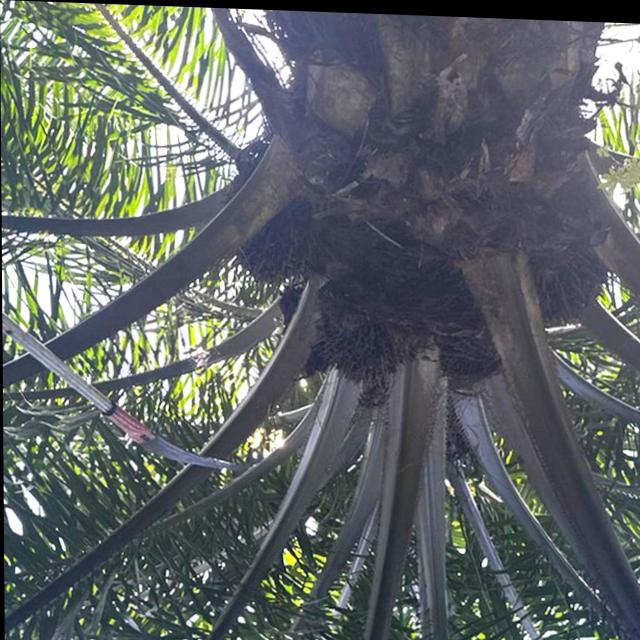unripe: (304, 281, 425, 395), (228, 181, 333, 298)
